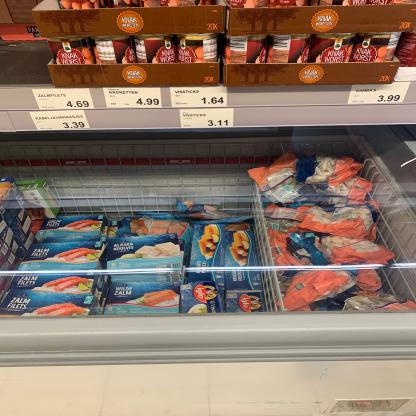prtg: (348, 83, 412, 106), (33, 89, 96, 111), (30, 110, 91, 132), (104, 88, 162, 109), (171, 87, 229, 108), (180, 110, 235, 130)
